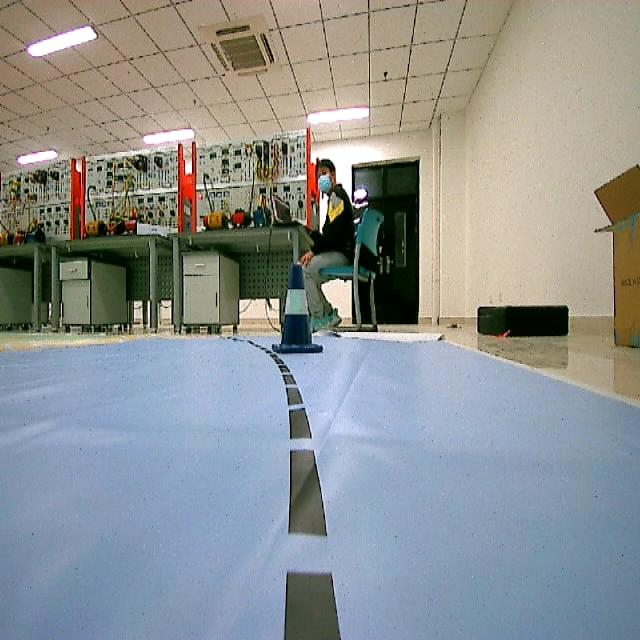obstacle: (280, 261, 324, 356)
